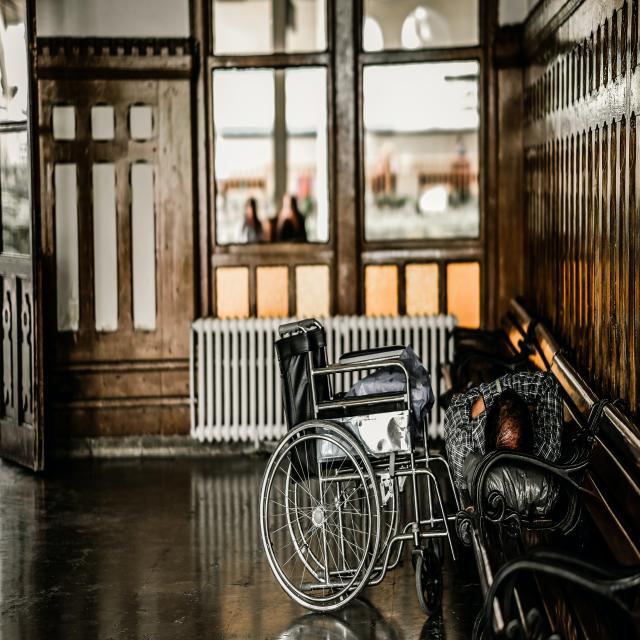wheelchairs: (265, 318, 466, 618)
